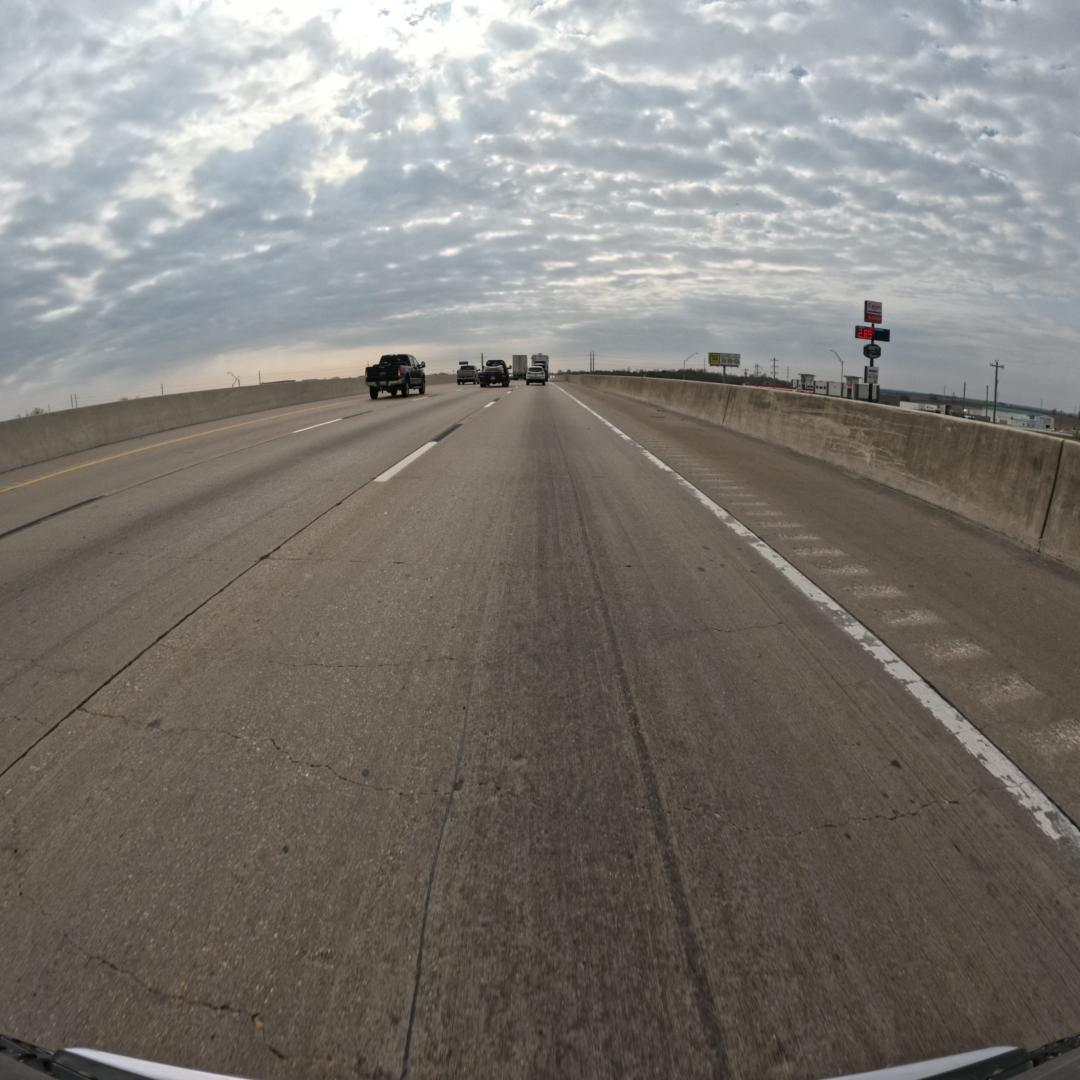lane0: (0, 388, 1080, 1077)
lane1: (0, 389, 489, 775)
